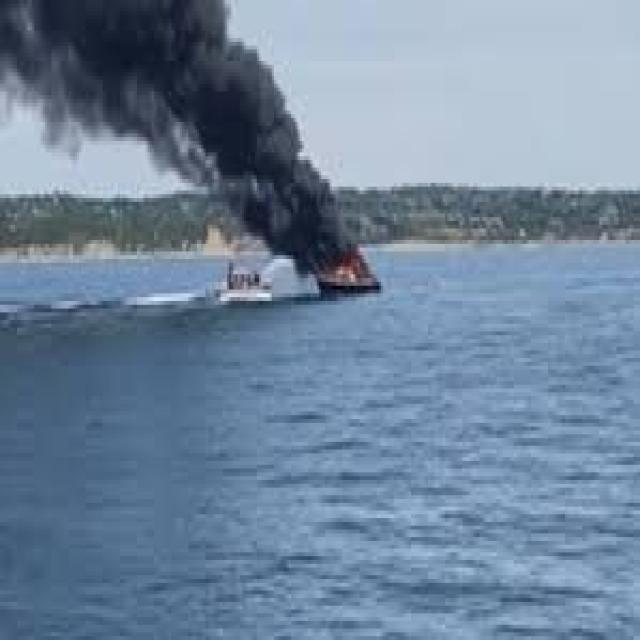Smoke: (0, 0, 252, 152), (231, 55, 347, 259)
